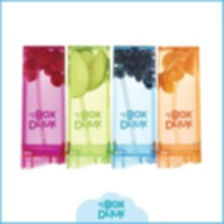carton: (157, 42, 207, 170), (16, 45, 66, 171), (111, 40, 155, 171), (65, 43, 110, 170)
